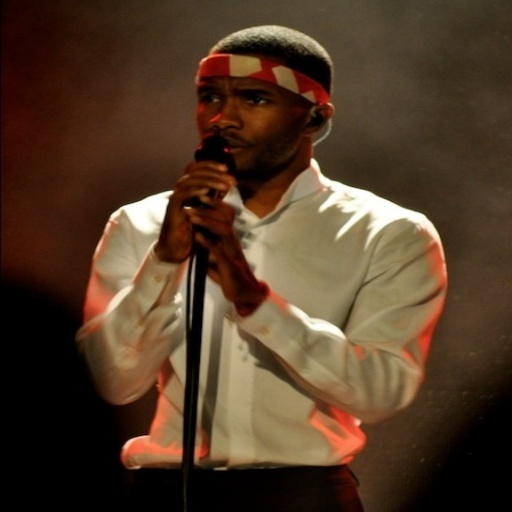hand: (180, 189, 265, 307)
